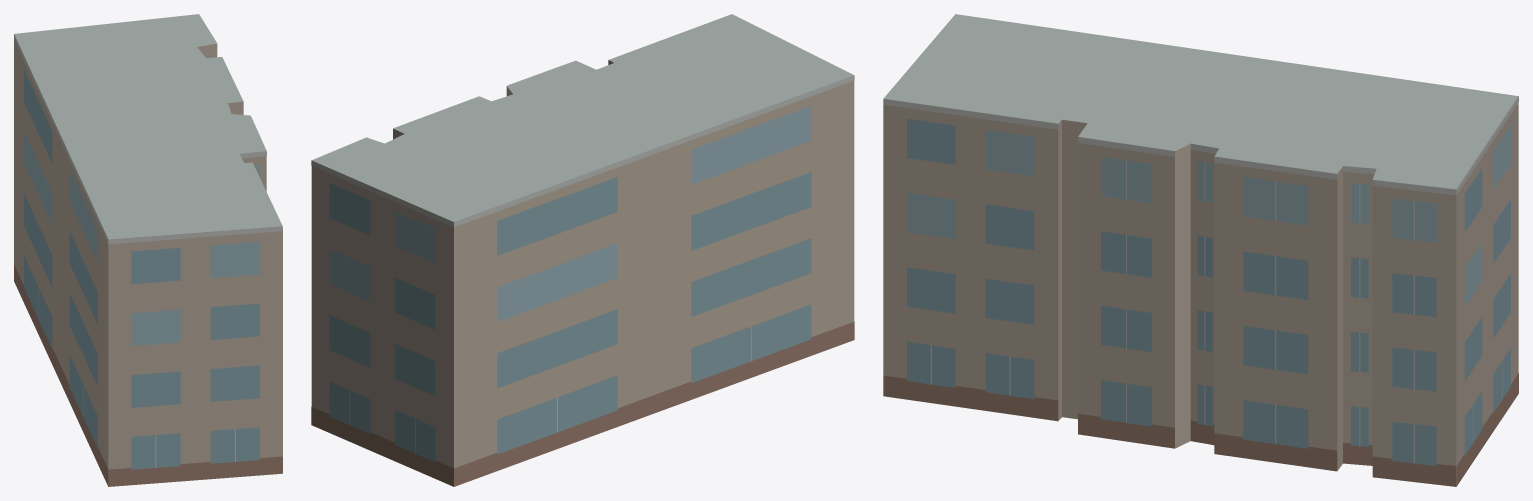
Rendered from survey-upis-32945966.glb.
3 renders of one model, left to right at view 1: azimuth 30°, elevation 25°; view 2: azimuth 150°, elevation 25°; view 3: azimuth 270°, elevation 25°, orthographic. The views are drawn at different scales.
Parts seen in each view (by area): view 1: survey-upis-32945966.tmp; view 2: survey-upis-32945966.tmp; view 3: survey-upis-32945966.tmp.
Boxes of the visible parts, left/top/right/bottom form: survey-upis-32945966.tmp: left=14, top=14, right=282, bottom=486; survey-upis-32945966.tmp: left=311, top=14, right=854, bottom=486; survey-upis-32945966.tmp: left=883, top=14, right=1518, bottom=486.
Size of the model in its own units: 15.44 by 12.2 by 23.63.
